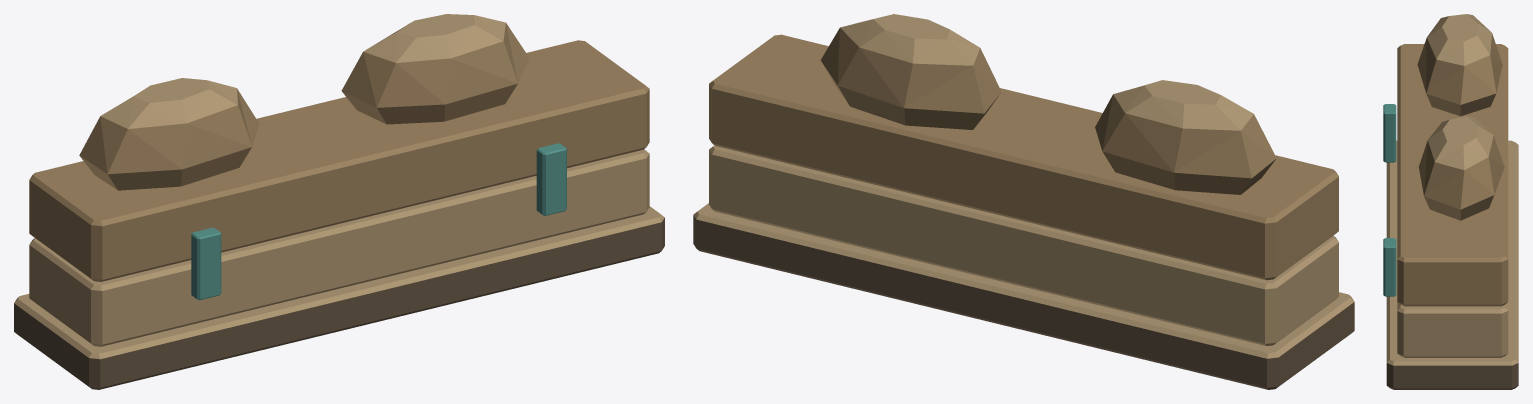
File: wall-broken.glb
3 views of the same model, side by side, from view 1: azimuth 30°, elevation 25°; view 2: azimuth 150°, elevation 25°; view 3: azimuth 270°, elevation 25° (orthographic). The views are drawn at different scales.
Parts seen in each view (by area): view 1: wall-broken__body; view 2: wall-broken__body; view 3: wall-broken__body.
Boxes of the visible parts, box(x1,y1,x2,y2) form: wall-broken__body: box(14, 14, 664, 389); wall-broken__body: box(693, 14, 1354, 389); wall-broken__body: box(1383, 14, 1518, 389).
Size of the model in its own units: 2 by 0.79 by 0.513.
